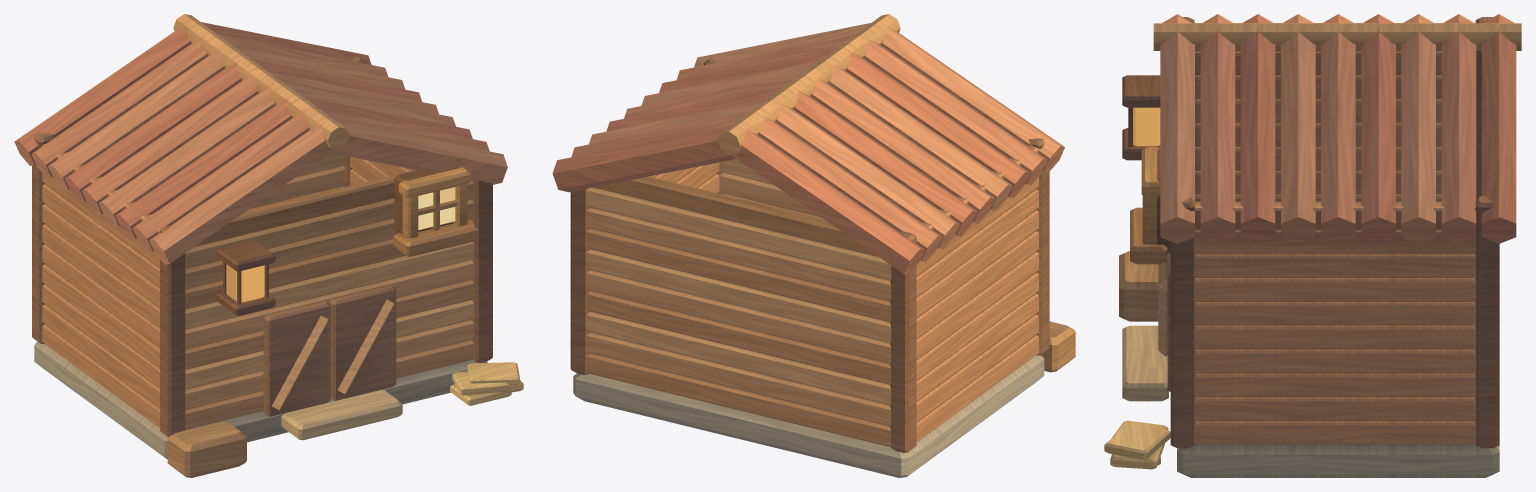
File: farm_barn.glb
3 views of the same model, side by side, from view 1: azimuth 30°, elevation 25°; view 2: azimuth 150°, elevation 25°; view 3: azimuth 270°, elevation 25° (orthographic). The views are drawn at different scales.
Parts seen in each view (by area): view 1: Schafscheune; view 2: Schafscheune; view 3: Schafscheune.
Boxes of the visible parts, x1=… form: Schafscheune: x1=14, y1=14, x2=523, y2=477; Schafscheune: x1=552, y1=14, x2=1075, y2=477; Schafscheune: x1=1104, y1=14, x2=1521, y2=477.
Bounding box in the file's own units: 2.98 × 2.49 × 2.58.
2 materials, 1 textured.
